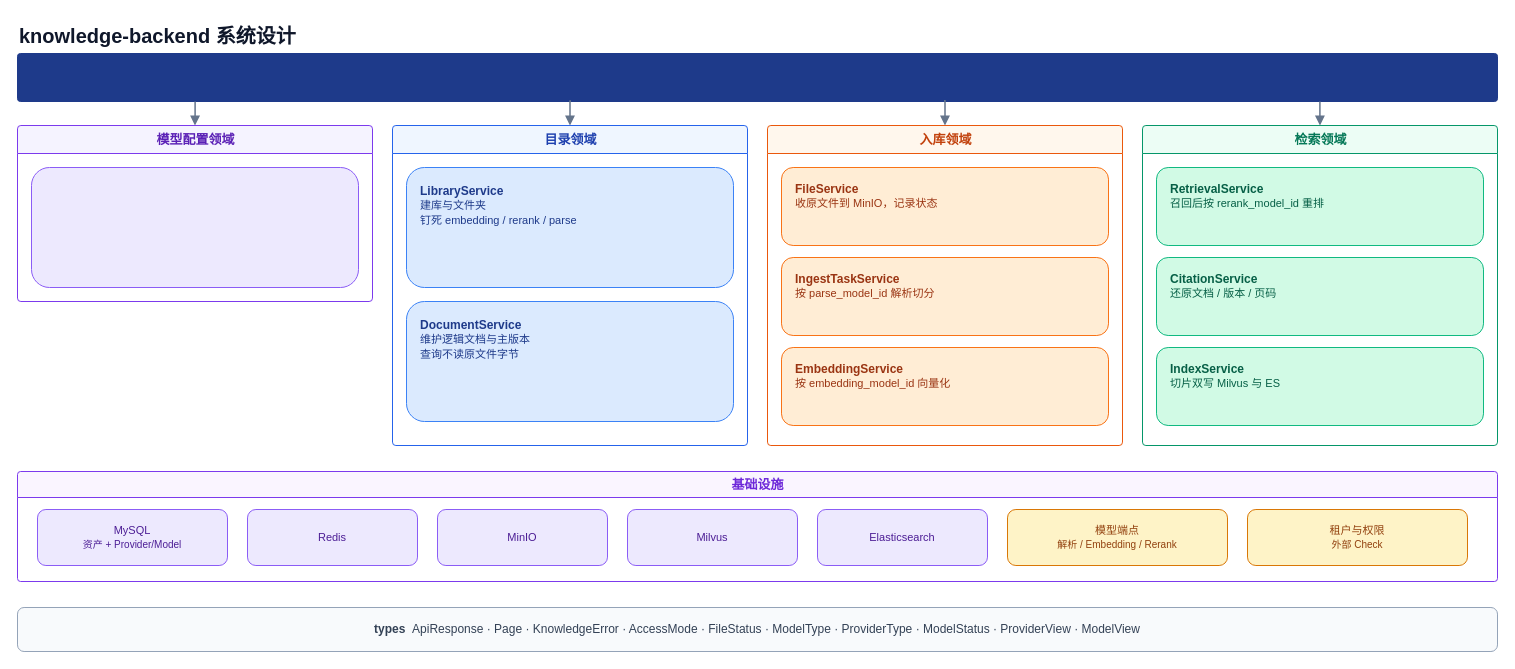
Some shapes in this 1515 by 669 pixel diagram are drawn without their labels. Each missing label, with the centre of its shape:
"KnowledgeFence 所有 API 先到这里：校验凭证 · 按 tenant 读库事实 · 向租户与权限 Check" goes at pixel 757 77.
"ModelService 维护 Provider / Model 目录 按类型筛选、探测 online" goes at pixel 194 227.
